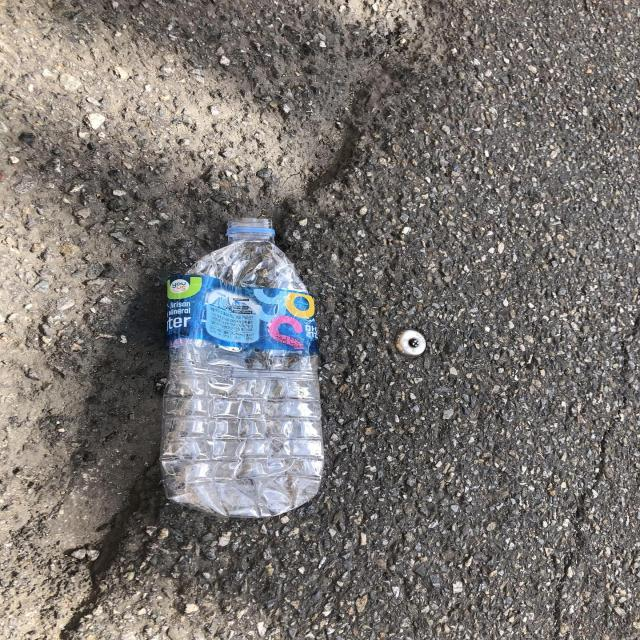plastic: (160, 218, 324, 518)
